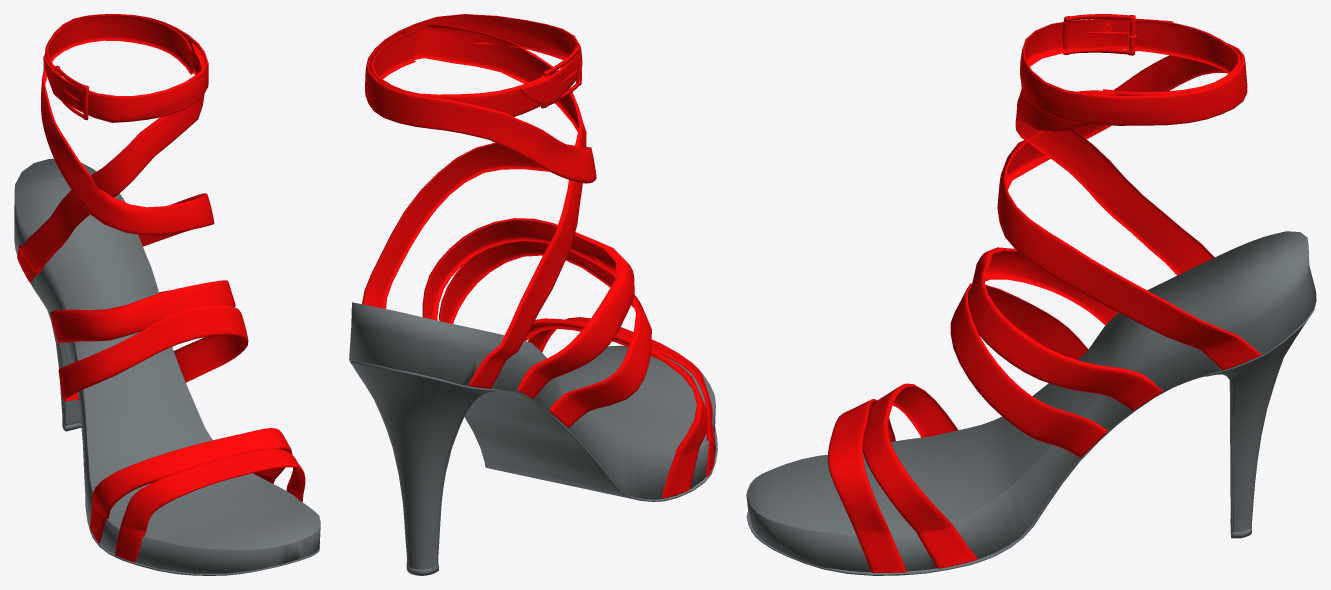
The model's file is shoe_2.fbx.
3 renders of one model, left to right at view 1: azimuth 30°, elevation 25°; view 2: azimuth 150°, elevation 25°; view 3: azimuth 270°, elevation 25°, orthographic. The views are drawn at different scales.
Visible parts, largest first — view 1: shoe_2; view 2: shoe_2; view 3: shoe_2.
Part boxes in pixels (<box>): shoe_2: <box>14,14,320,575</box>; shoe_2: <box>349,14,717,575</box>; shoe_2: <box>746,14,1316,575</box>.
Bounding box in the file's own units: 7.37 × 15.83 × 16.94.
Materials: 1 (1 with a texture image).
